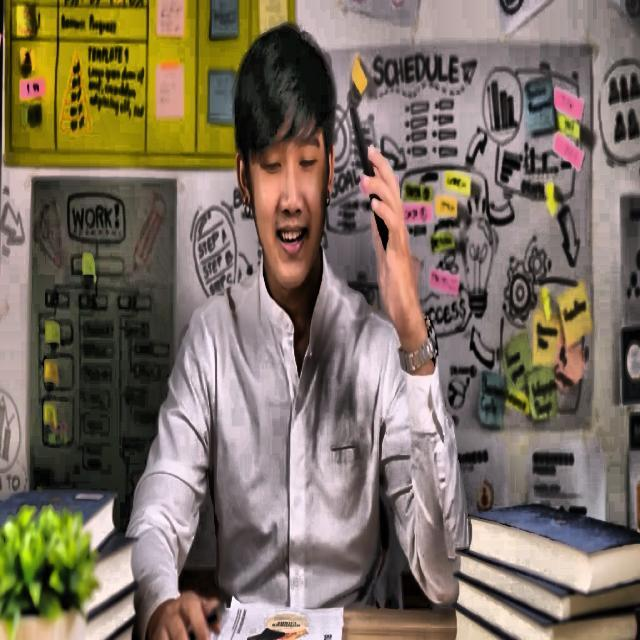Phone: (349, 103, 391, 255)
